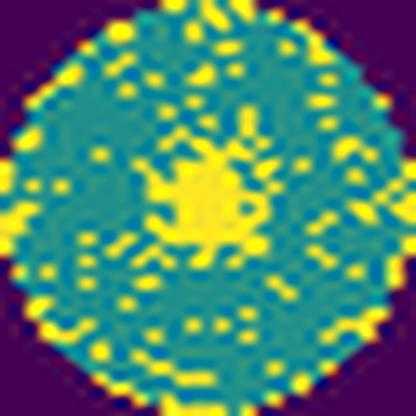Center: (135, 124, 273, 278)
